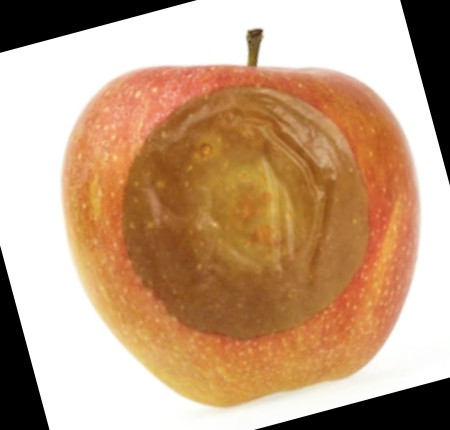rotten_apple: (61, 64, 422, 406)
